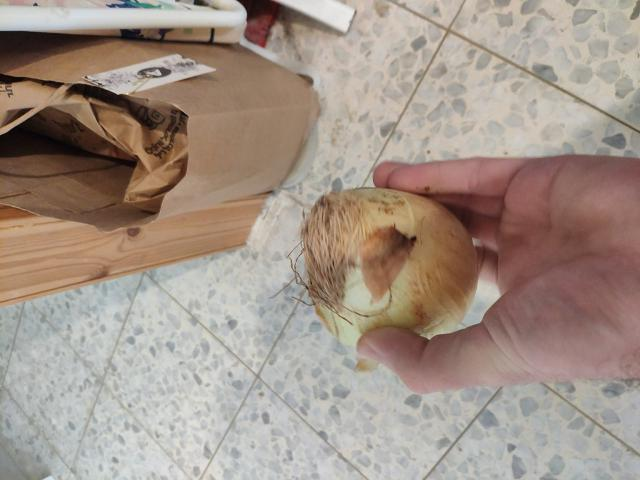onion: (299, 182, 488, 374)
